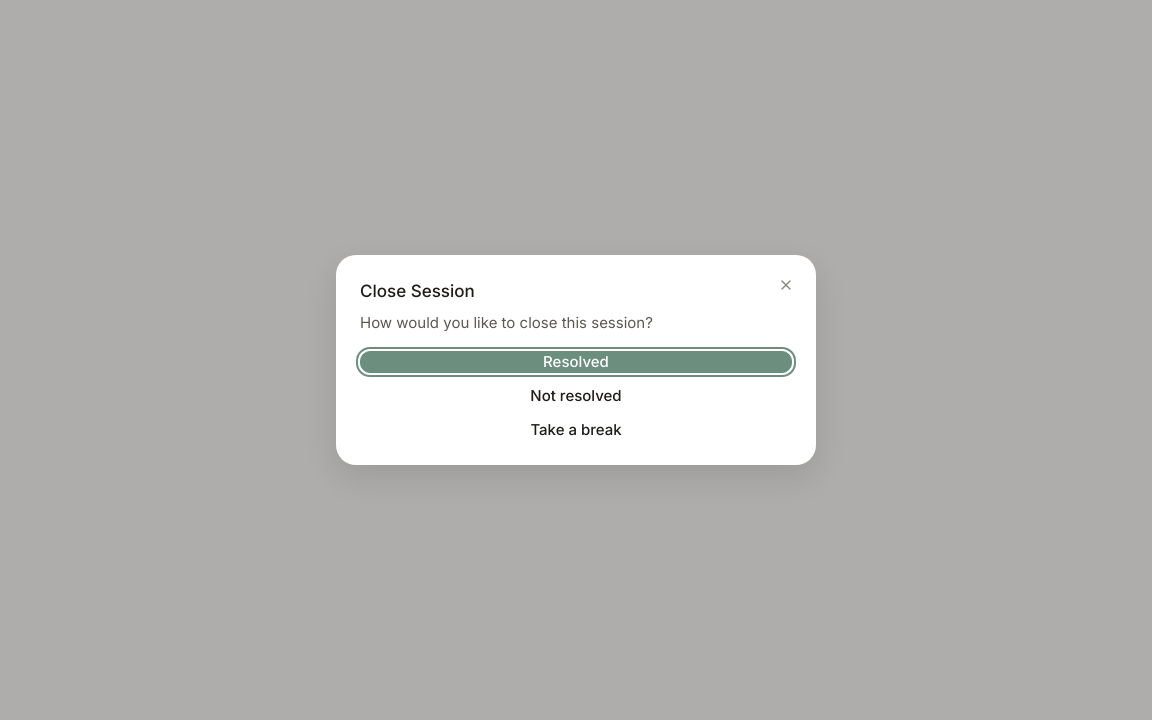
it: ClosureModal — three-path closure flow › AC: Resolved path — textarea, info message, Propose Resolution / Cancel › Propose Resolution button is enabled when textarea has content
The width and height of the screenshot is (1152, 720).
Click the button "Resolved" at (576, 362), box x1=360 y1=351 x2=792 y2=373
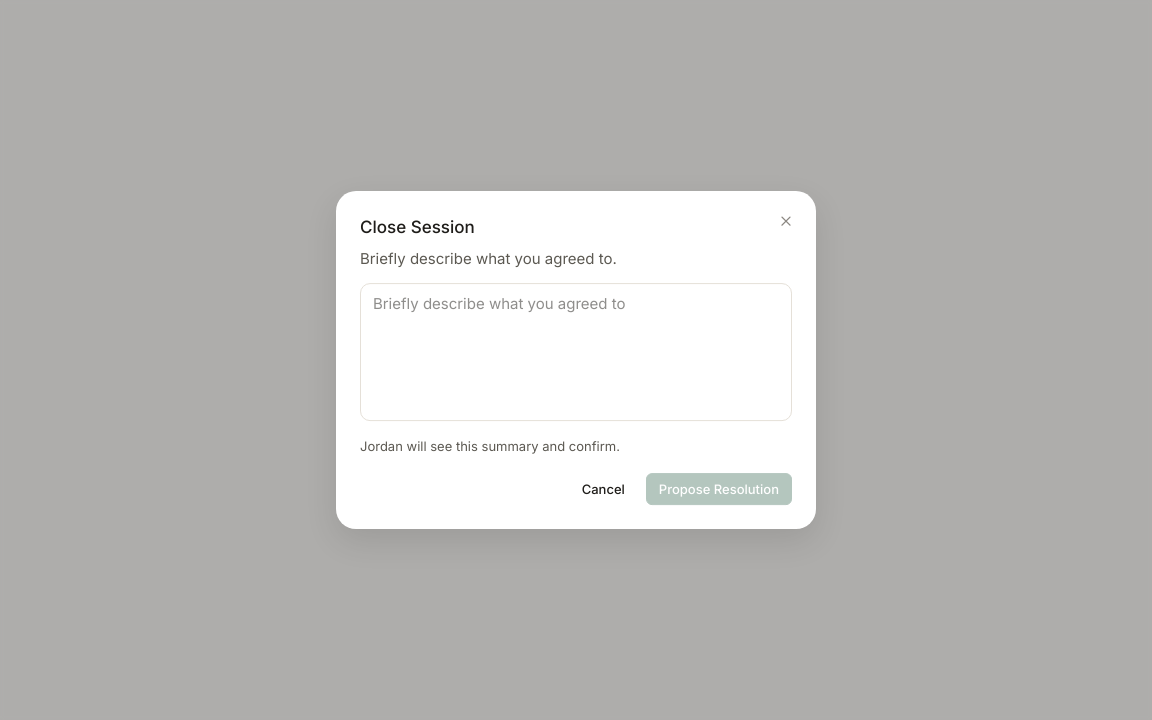
Type "We agreed to meet weekly." into the text box at (576, 352), box x1=360 y1=283 x2=792 y2=421
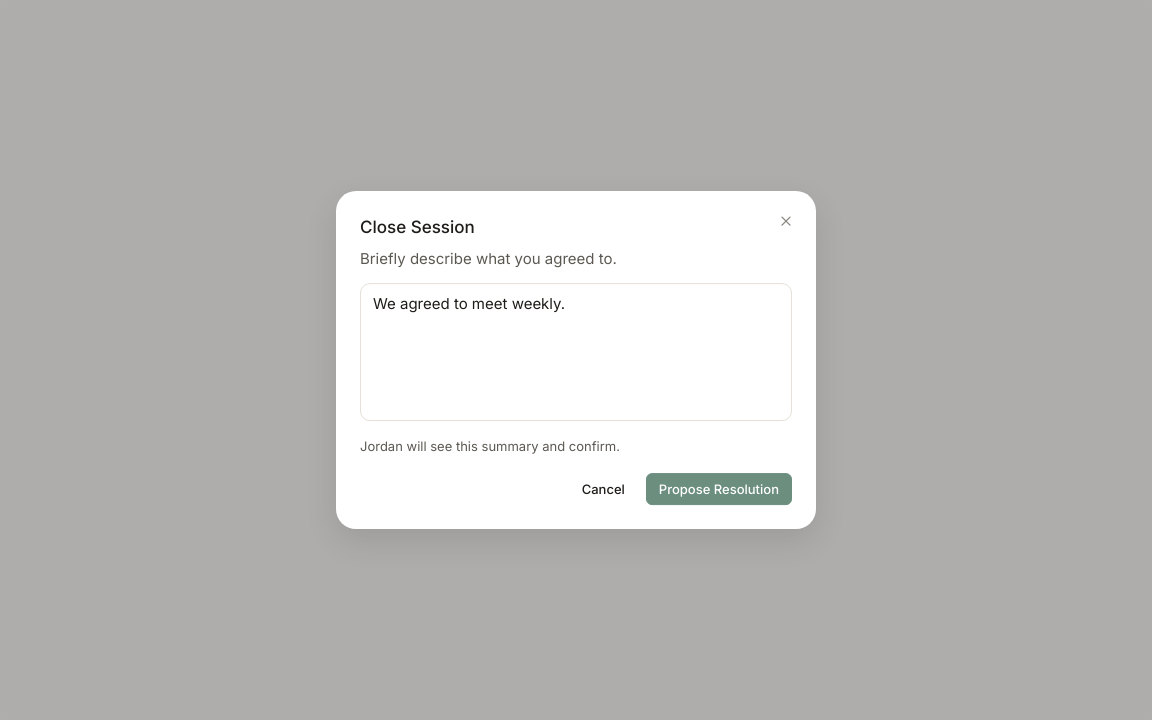
Expected: the button "Propose Resolution" is enabled, x1=646 y1=473 x2=792 y2=505
